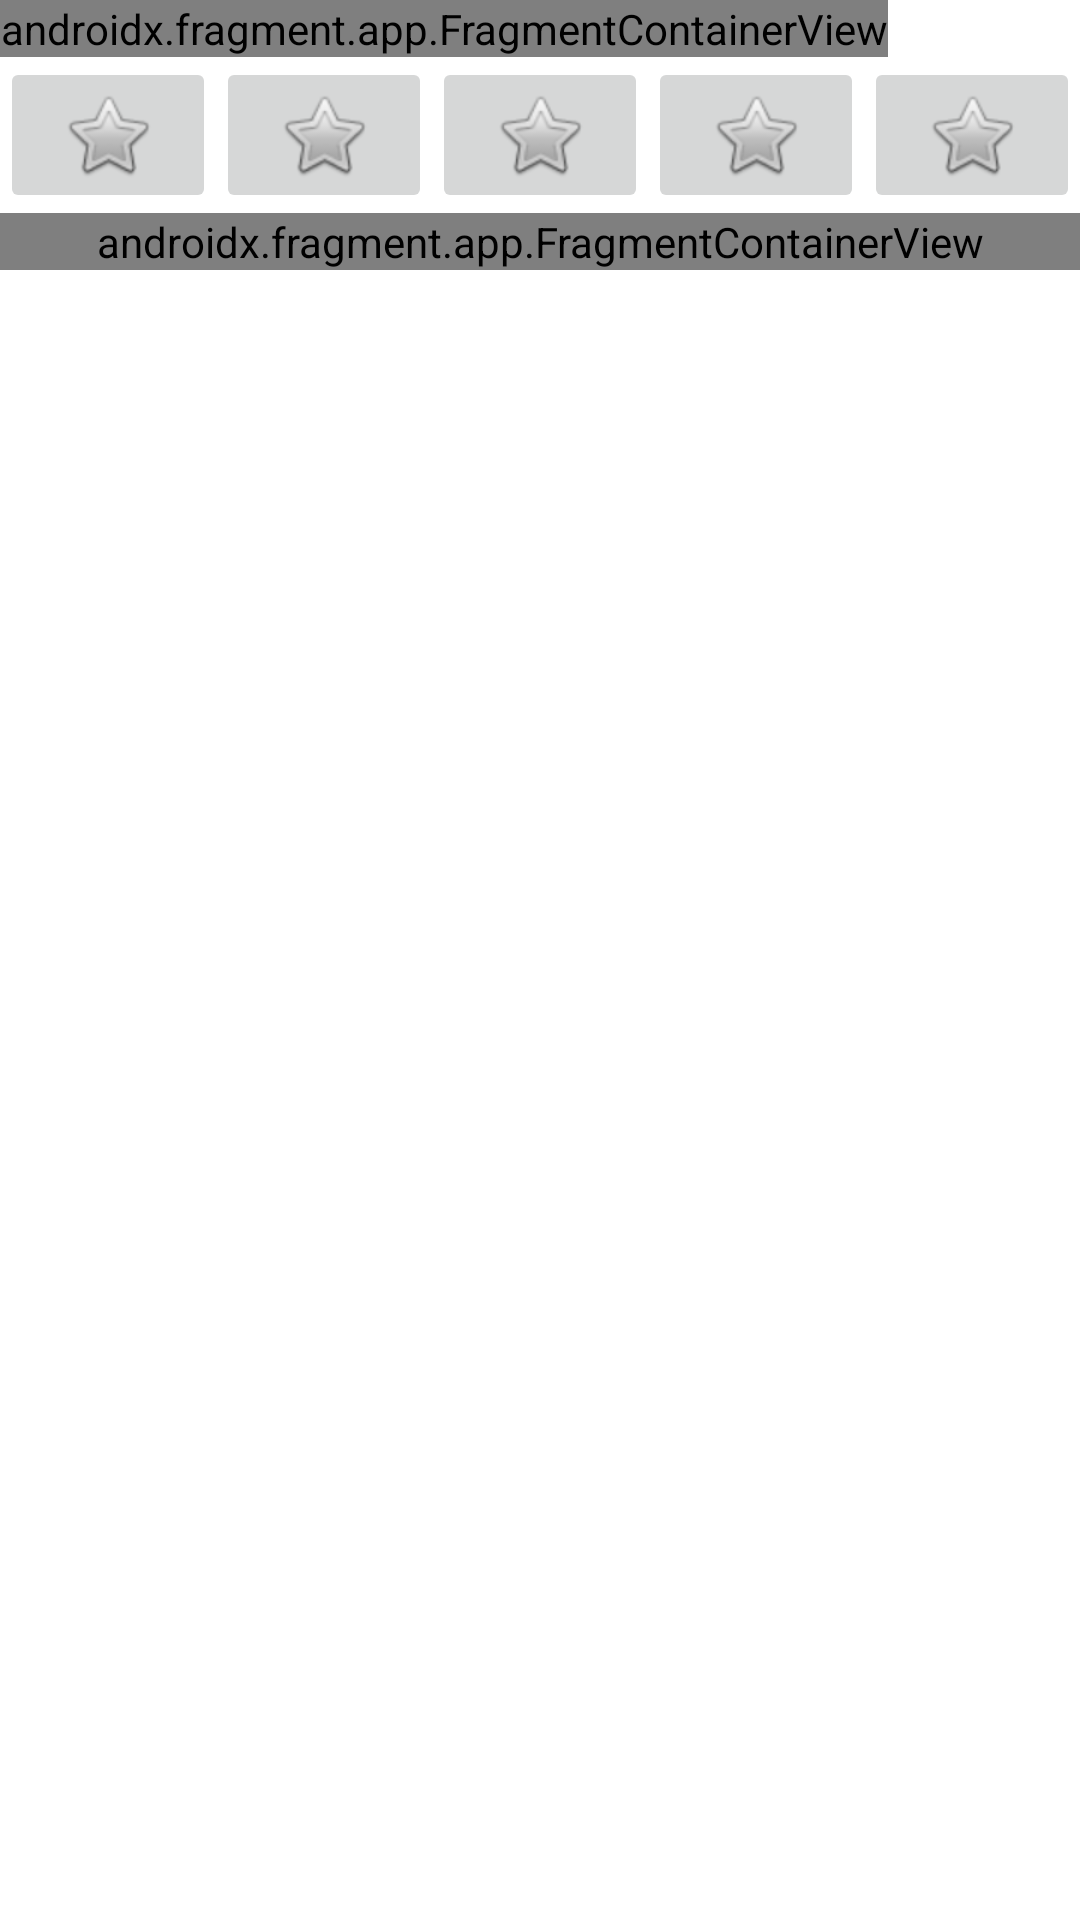

Screen size 1080px x 1920px. Icon name, then its center in pixels as (x,y):
star: (108,135), (324,135), (540,135), (756,135), (972,135)
